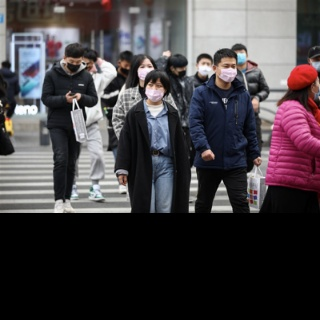with_mask: (144, 80, 165, 103), (216, 61, 237, 82), (136, 62, 156, 82), (65, 57, 83, 73), (198, 60, 213, 76), (233, 49, 247, 65), (310, 57, 320, 73), (120, 62, 132, 75), (175, 65, 187, 77)
